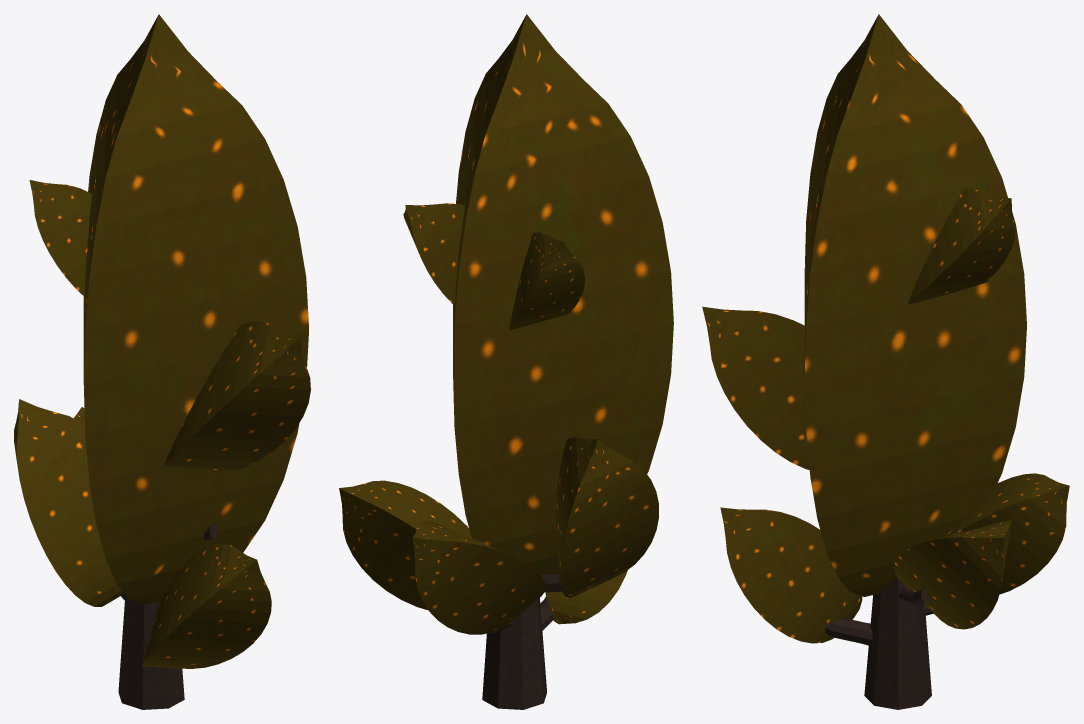
The model's file is tree-dark-green-flowers_4.fbx.
3 views of the same model, side by side, from view 1: azimuth 30°, elevation 25°; view 2: azimuth 150°, elevation 25°; view 3: azimuth 270°, elevation 25° (orthographic). The views are drawn at different scales.
Visible parts, largest first — view 1: Icosphere.096; view 2: Icosphere.096; view 3: Icosphere.096.
Boxes of the visible parts, x1,y1,x2,y2 form: Icosphere.096: (14,14,310,709); Icosphere.096: (339,14,673,709); Icosphere.096: (702,14,1069,709).
Bounding box in the file's own units: 154 × 389 × 190.
